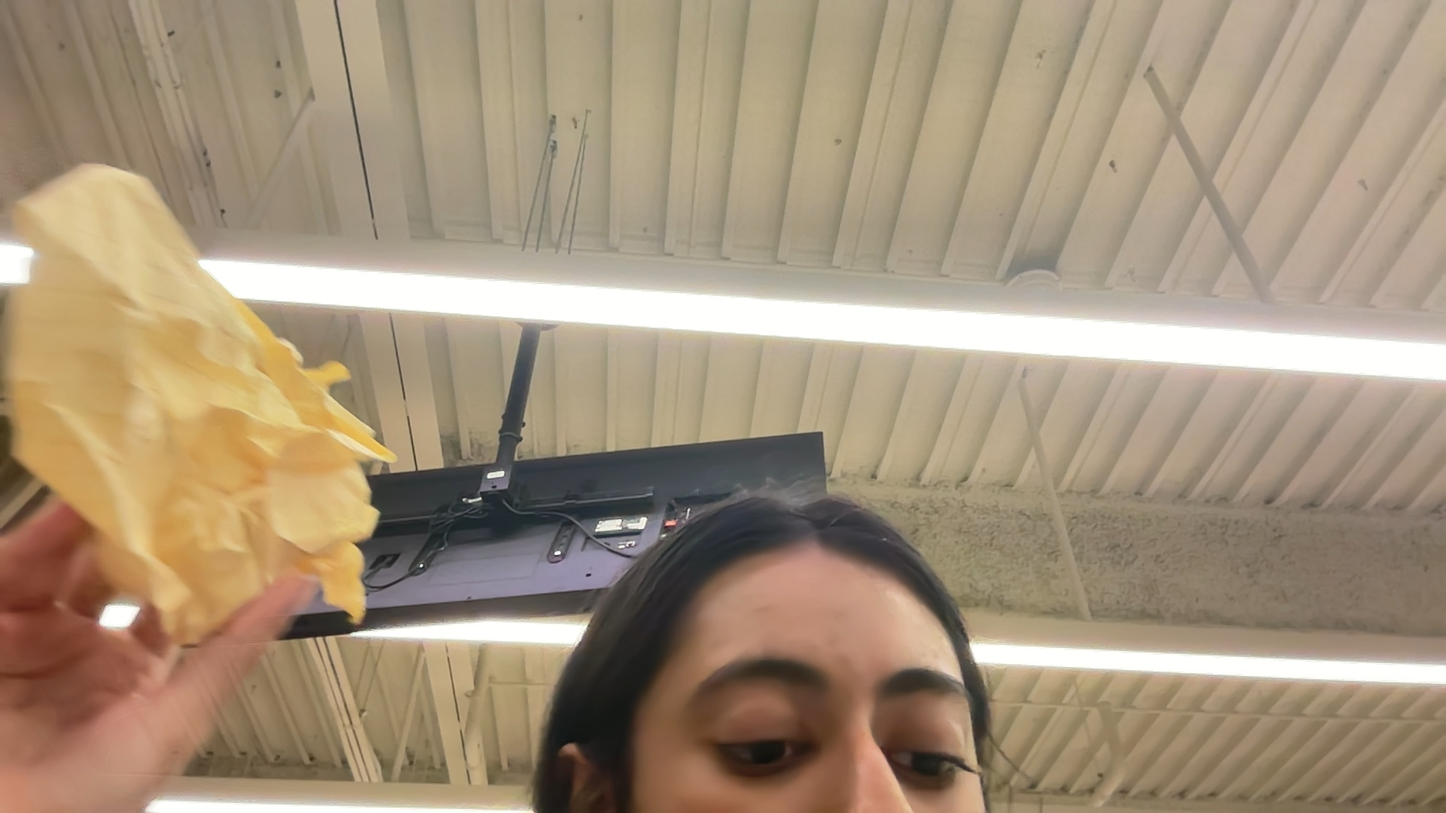Plastic: (7, 169, 416, 632)
